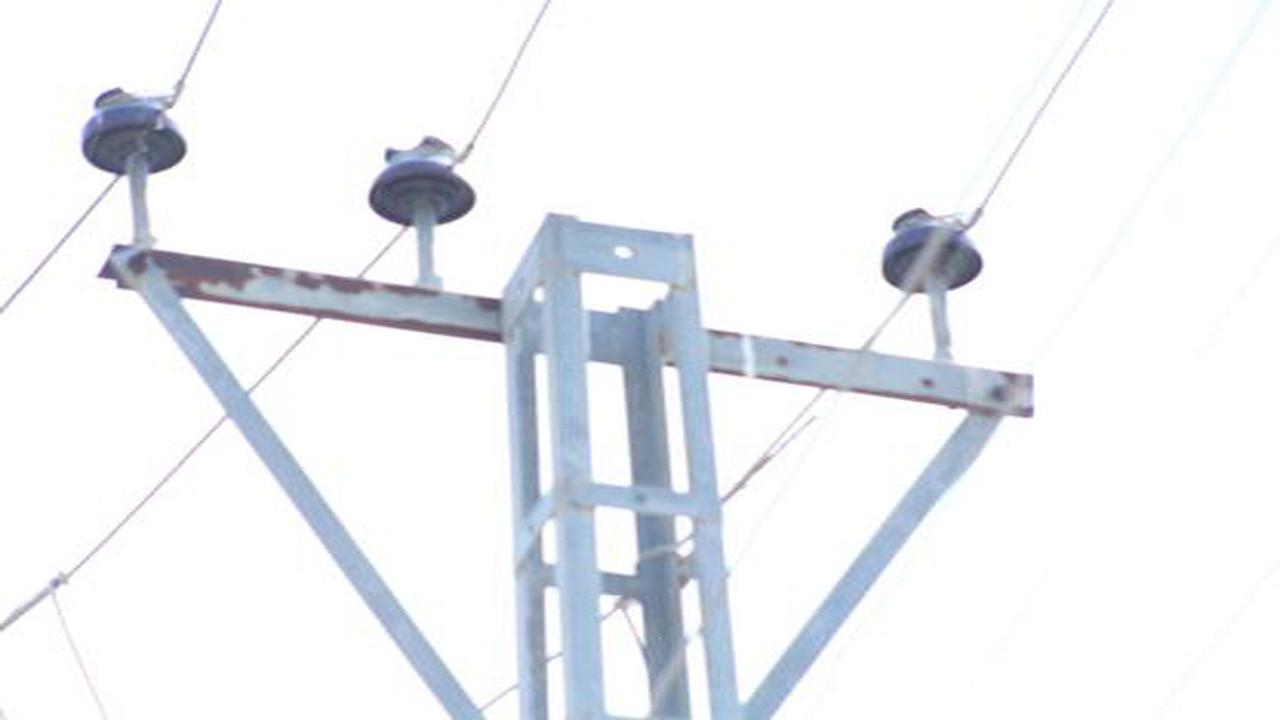insulator_pin: (365, 129, 480, 227), (76, 81, 191, 178), (874, 204, 989, 298)
